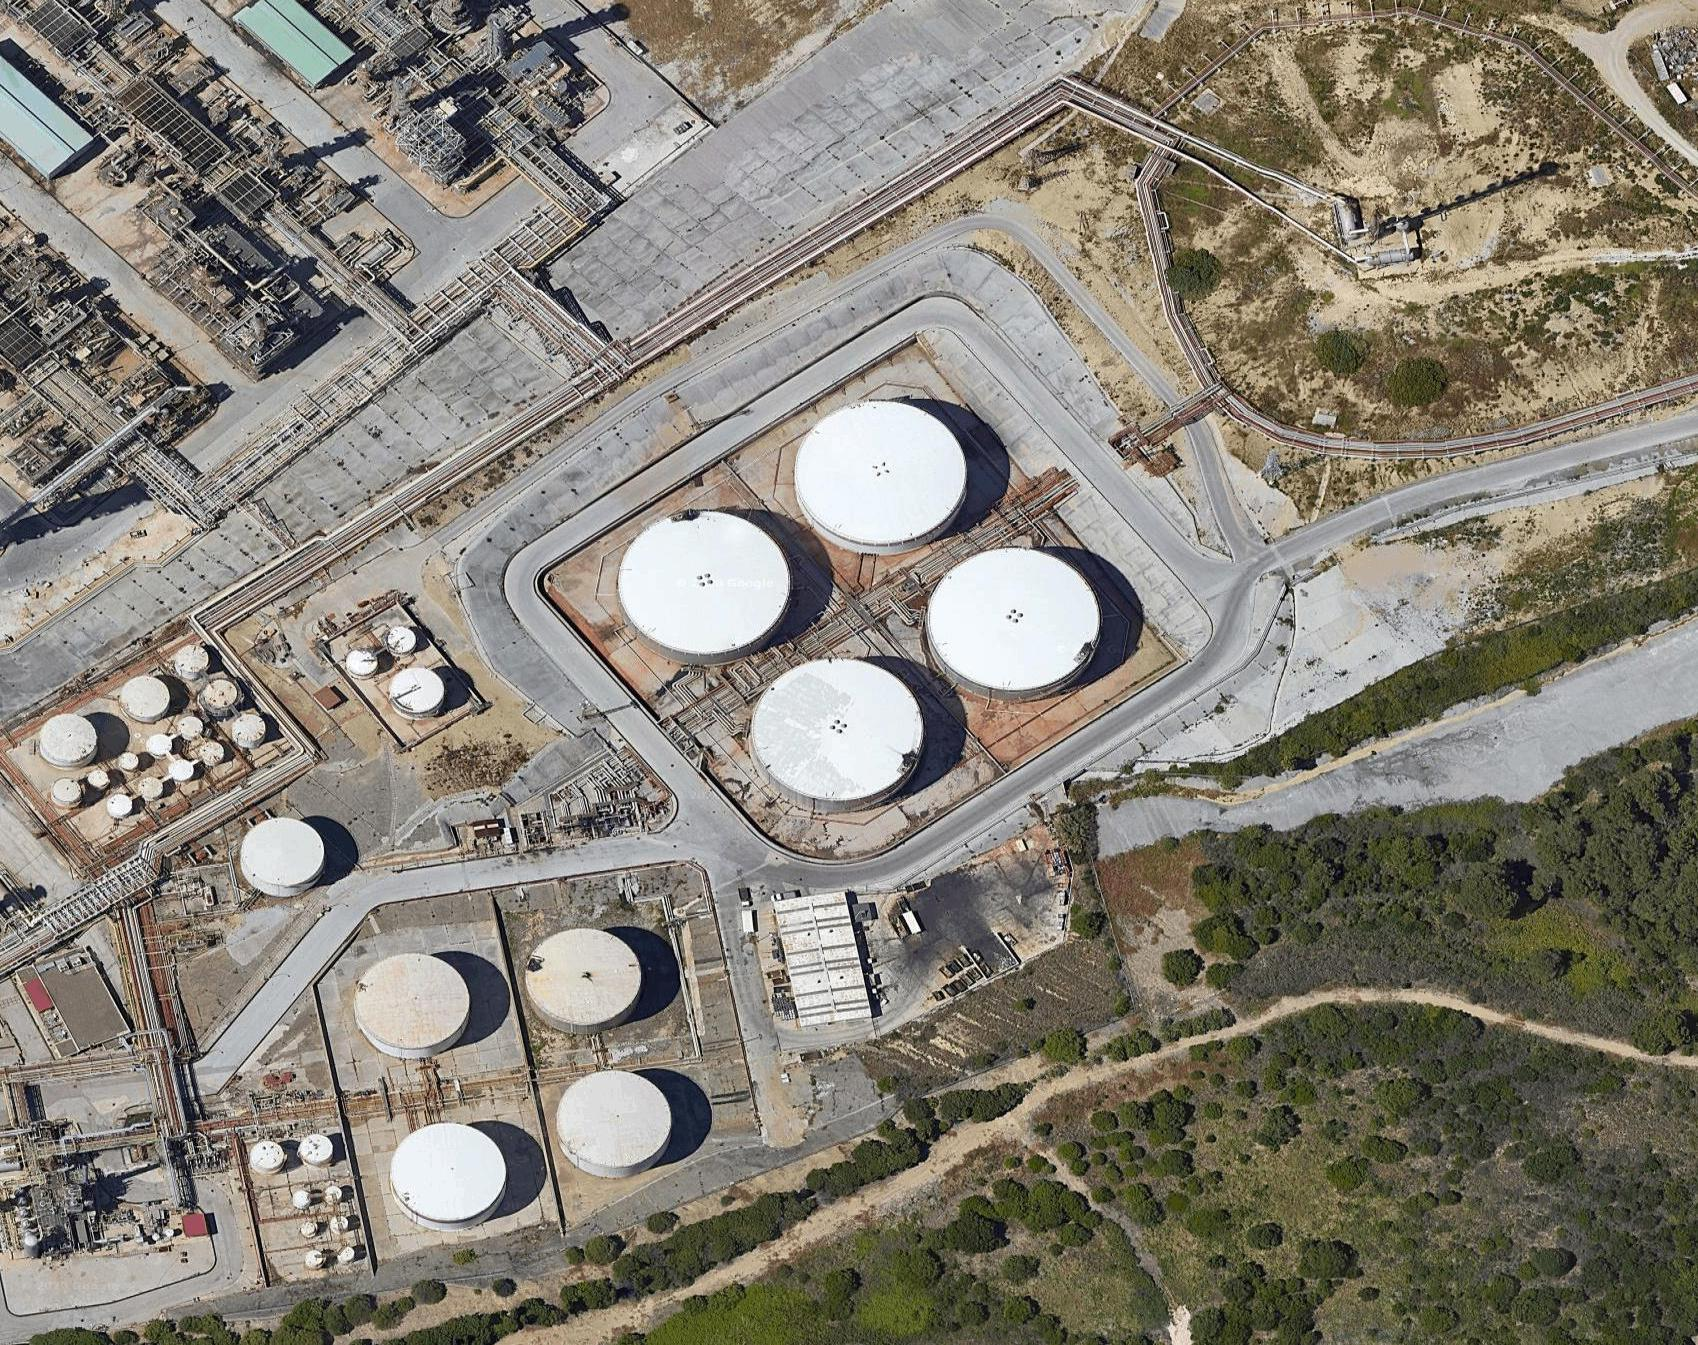storage-tank: (921, 544, 1109, 708), (611, 506, 797, 661), (792, 396, 974, 550), (740, 659, 926, 808), (343, 949, 484, 1058), (551, 1069, 681, 1174), (385, 1120, 509, 1225), (528, 923, 648, 1029), (234, 812, 329, 899), (385, 657, 452, 726), (36, 708, 96, 768), (338, 638, 386, 684), (123, 677, 170, 719), (380, 622, 420, 661), (232, 717, 267, 750), (176, 645, 212, 677), (251, 1140, 284, 1173), (299, 1134, 332, 1167), (203, 679, 237, 711), (48, 776, 80, 803), (103, 792, 130, 821), (145, 732, 174, 758), (175, 715, 203, 741), (201, 741, 229, 768), (117, 747, 145, 773), (138, 774, 165, 801), (168, 757, 196, 781), (81, 768, 113, 787), (332, 1211, 351, 1238), (324, 1181, 343, 1206), (299, 1217, 318, 1242), (338, 1240, 357, 1265), (289, 1187, 307, 1211), (305, 1244, 323, 1269)
